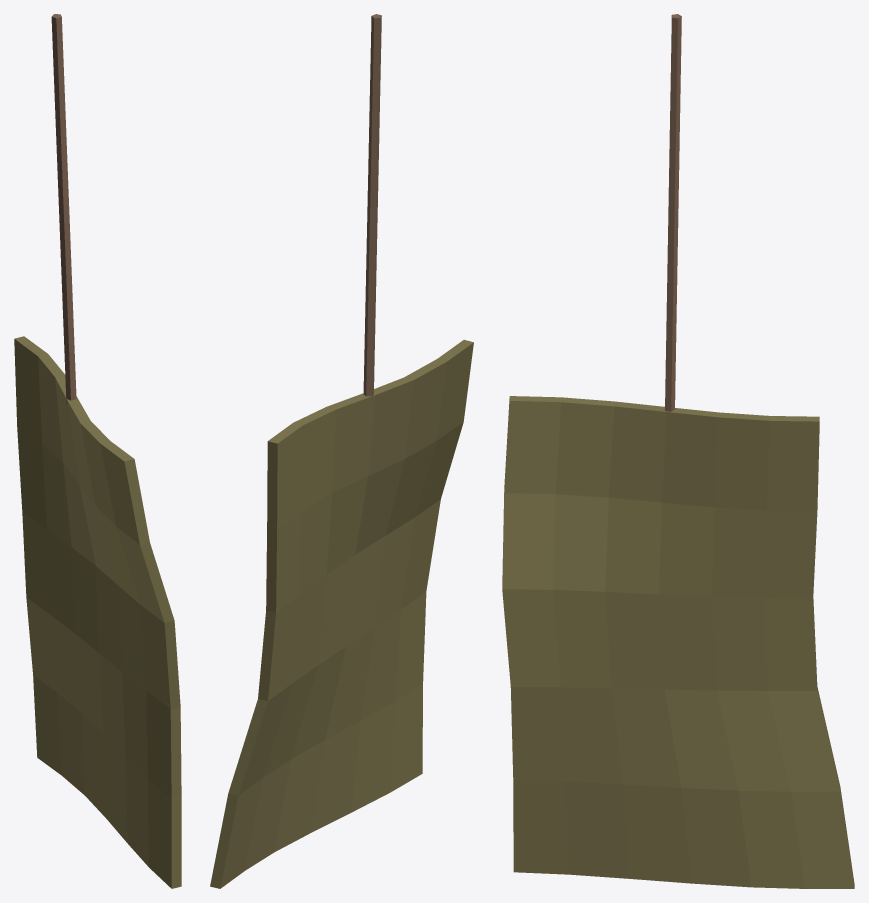
Rendered from Yapiskan.fbx.
3 views of the same model, side by side, from view 1: azimuth 30°, elevation 25°; view 2: azimuth 150°, elevation 25°; view 3: azimuth 270°, elevation 25° (orthographic).
Parts seen in each view (by area): view 1: Cube, Cylinder; view 2: Cube, Cylinder; view 3: Cube, Cylinder.
Part boxes in pixels (box(x1,y1,x2,y2)): Cube: box(14, 336, 181, 888); Cylinder: box(51, 14, 76, 403); Cube: box(210, 339, 473, 888); Cylinder: box(363, 14, 381, 401); Cube: box(502, 396, 854, 888); Cylinder: box(665, 14, 681, 411).
Bounding box in the file's own units: 447 × 3773 × 1446.
